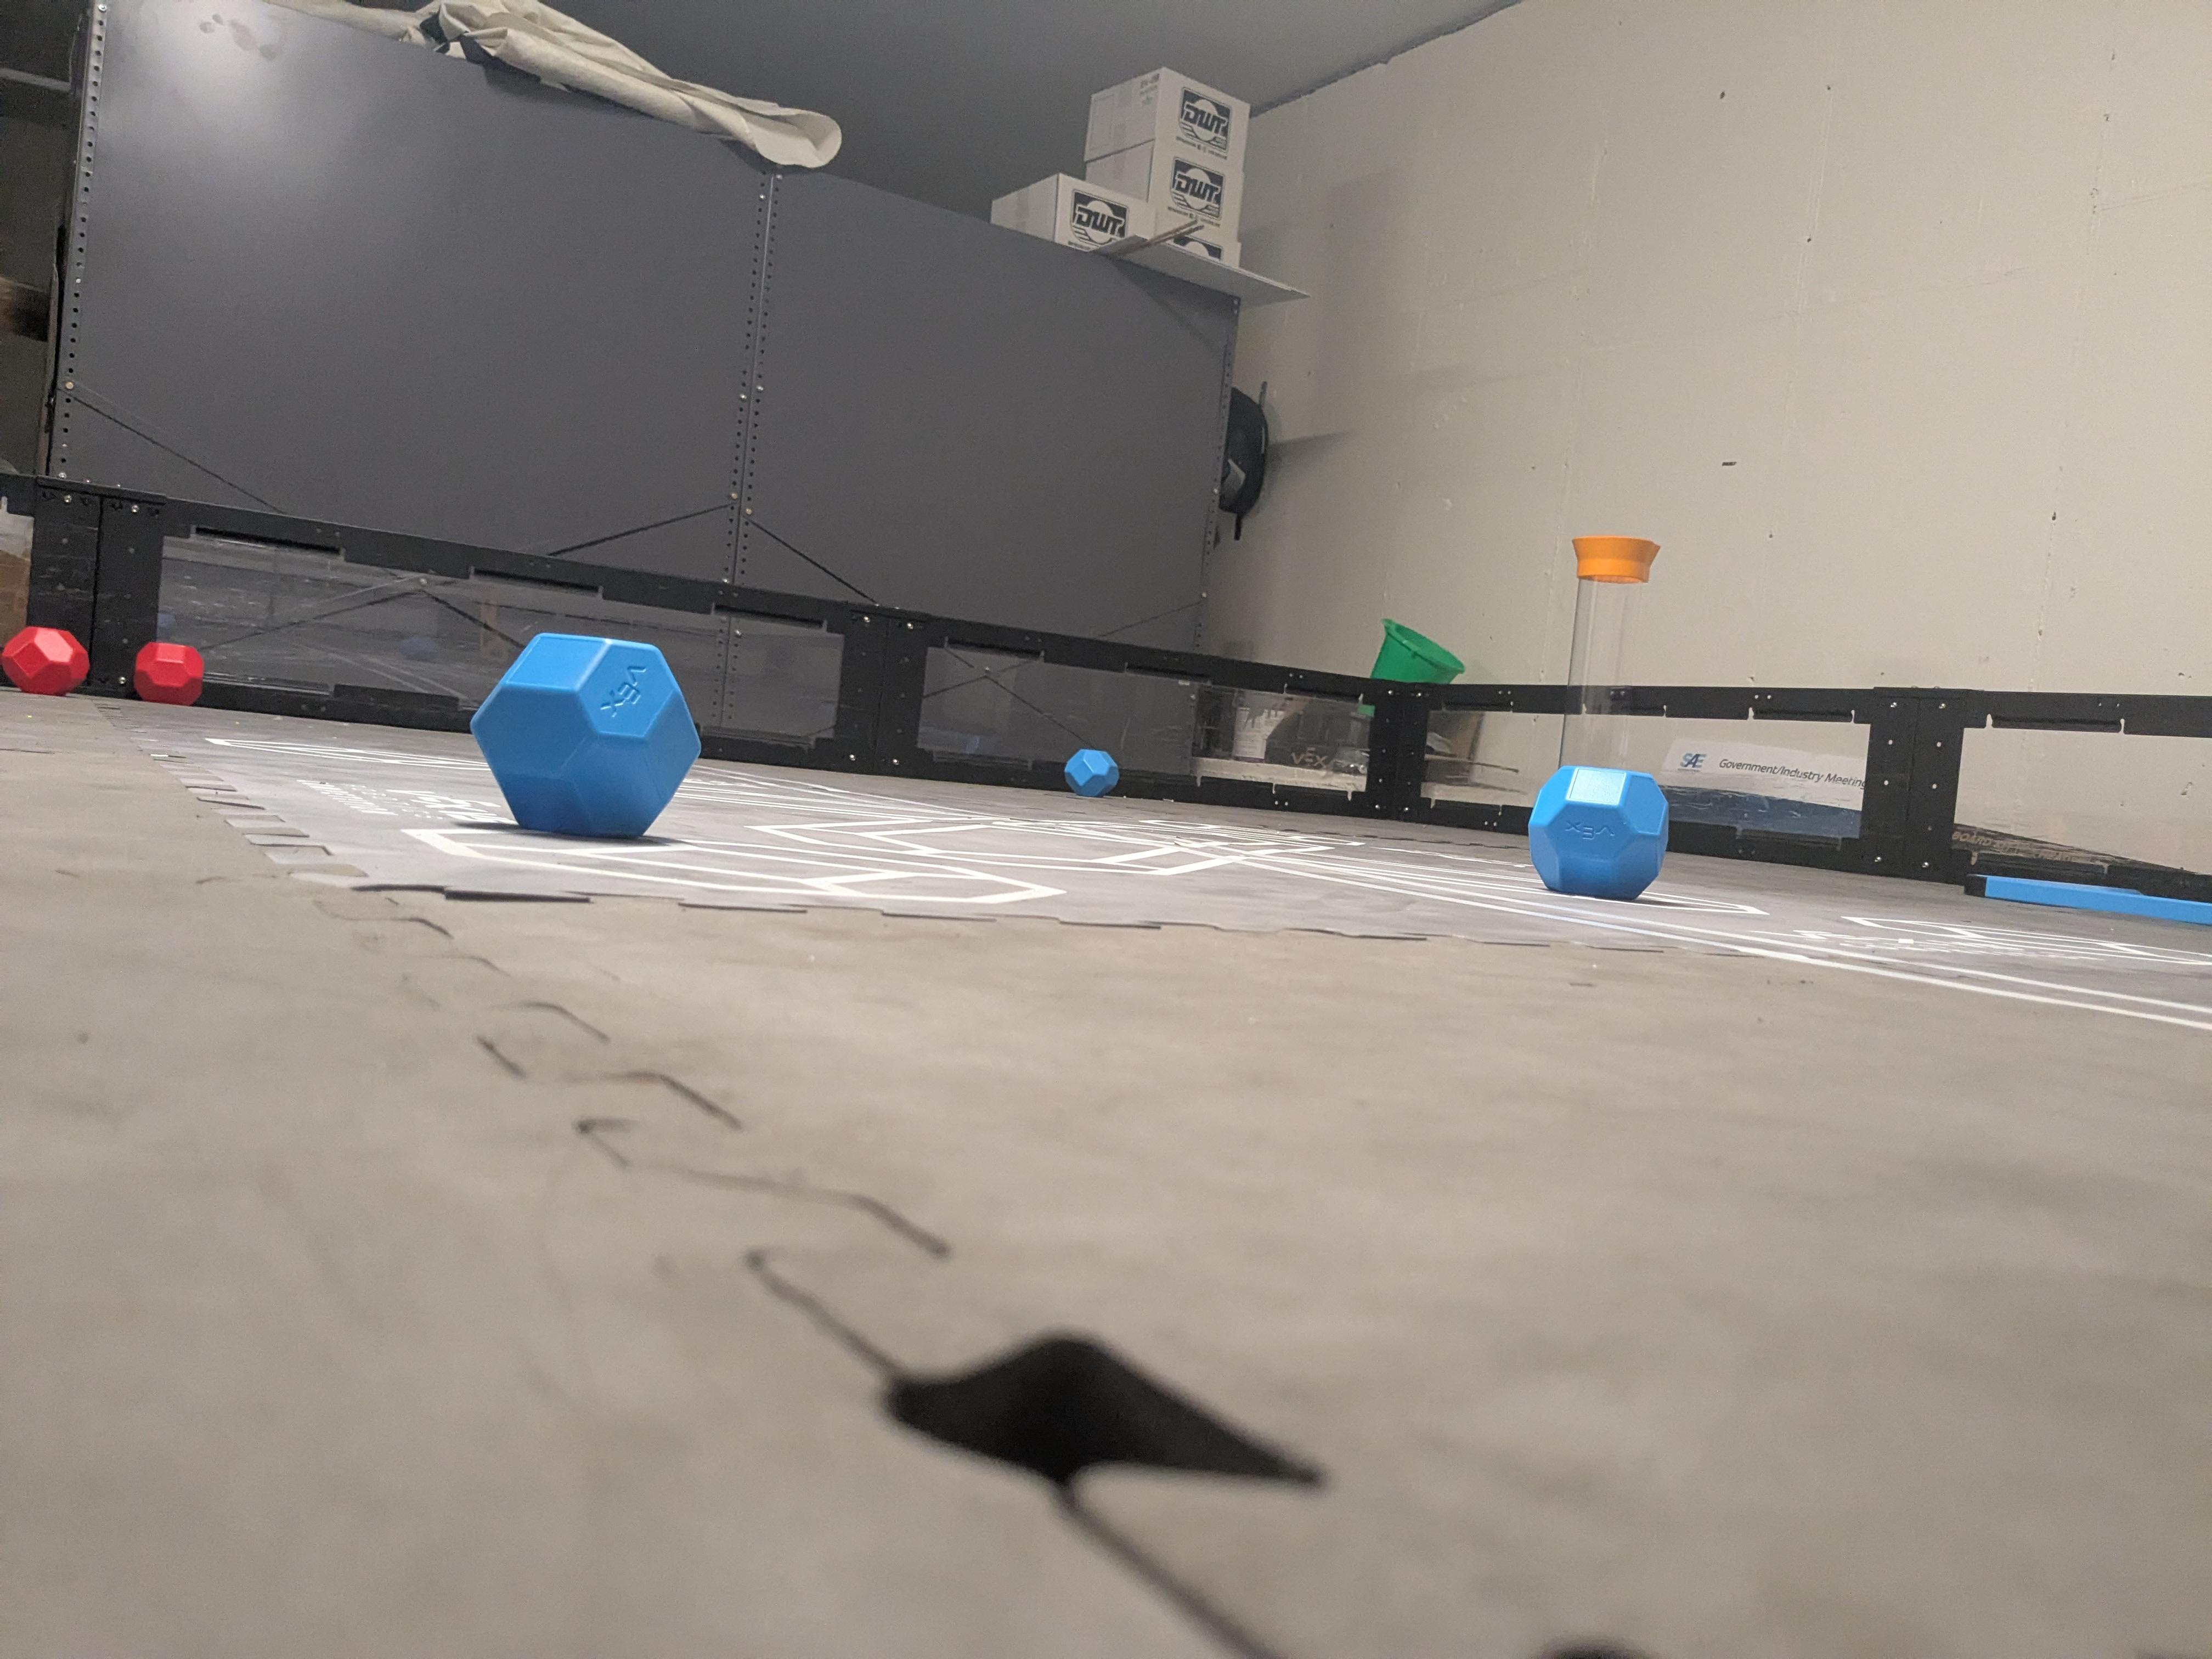Vex-Pieces-BLUE: (474, 634, 698, 836), (1527, 765, 1665, 899), (1064, 748, 1118, 796)
